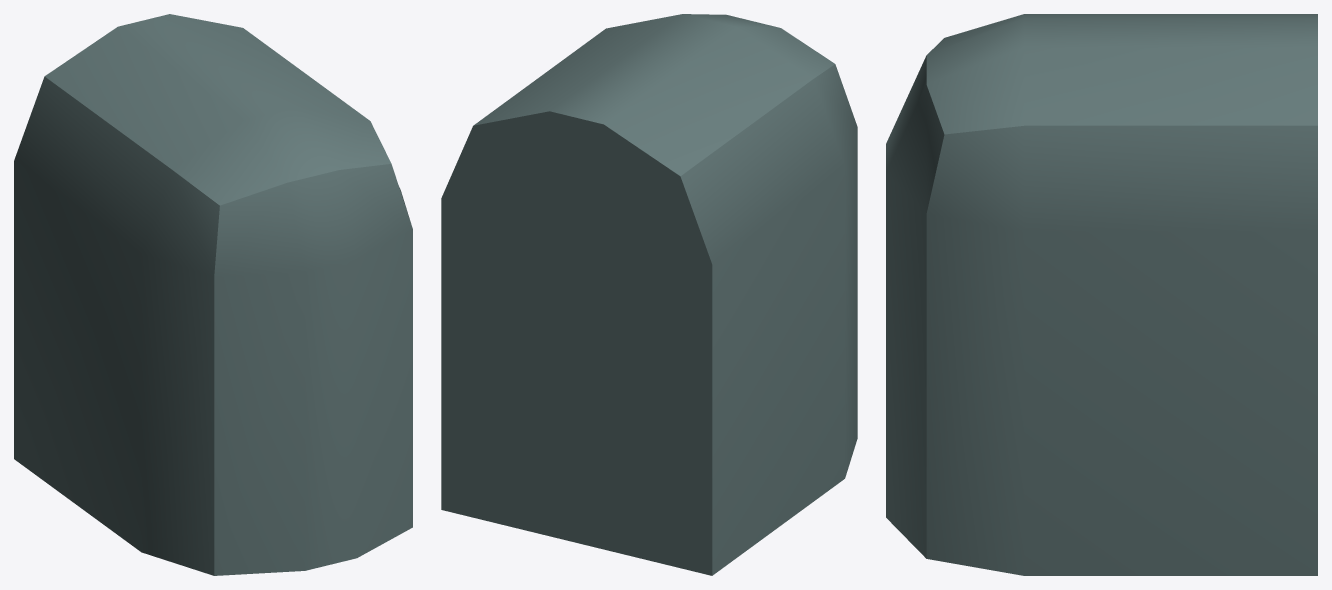
Rendered from leftHedge2.fbx.
3 renders of one model, left to right at view 1: azimuth 30°, elevation 25°; view 2: azimuth 150°, elevation 25°; view 3: azimuth 270°, elevation 25°, orthographic. The views are drawn at different scales.
Parts seen in each view (by area): view 1: leftHedge2; view 2: leftHedge2; view 3: leftHedge2.
Boxes of the visible parts, x1=… form: leftHedge2: x1=14, y1=14, x2=412, y2=575; leftHedge2: x1=441, y1=14, x2=857, y2=575; leftHedge2: x1=886, y1=14, x2=1317, y2=575.
Bounding box in the file's own units: 40 × 60 × 50.
